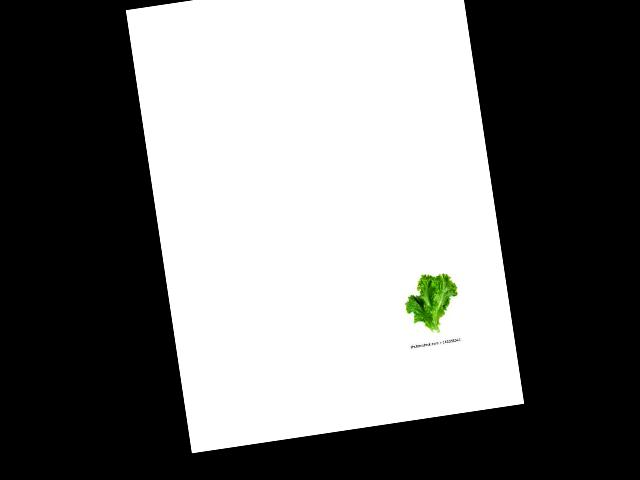lettuce: (399, 268, 463, 341)
